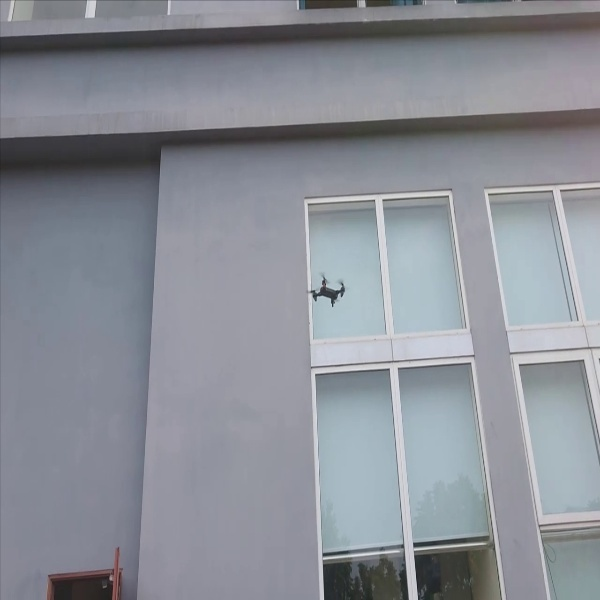drone: (306, 273, 351, 310)
